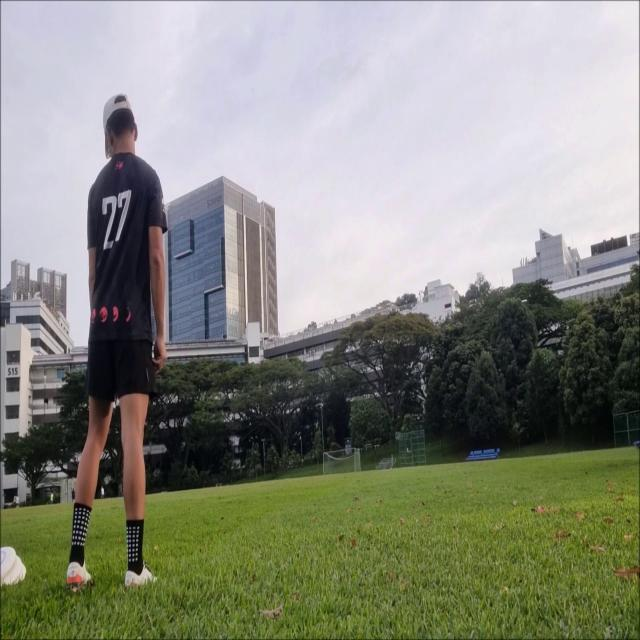disc: (521, 298, 527, 303)
